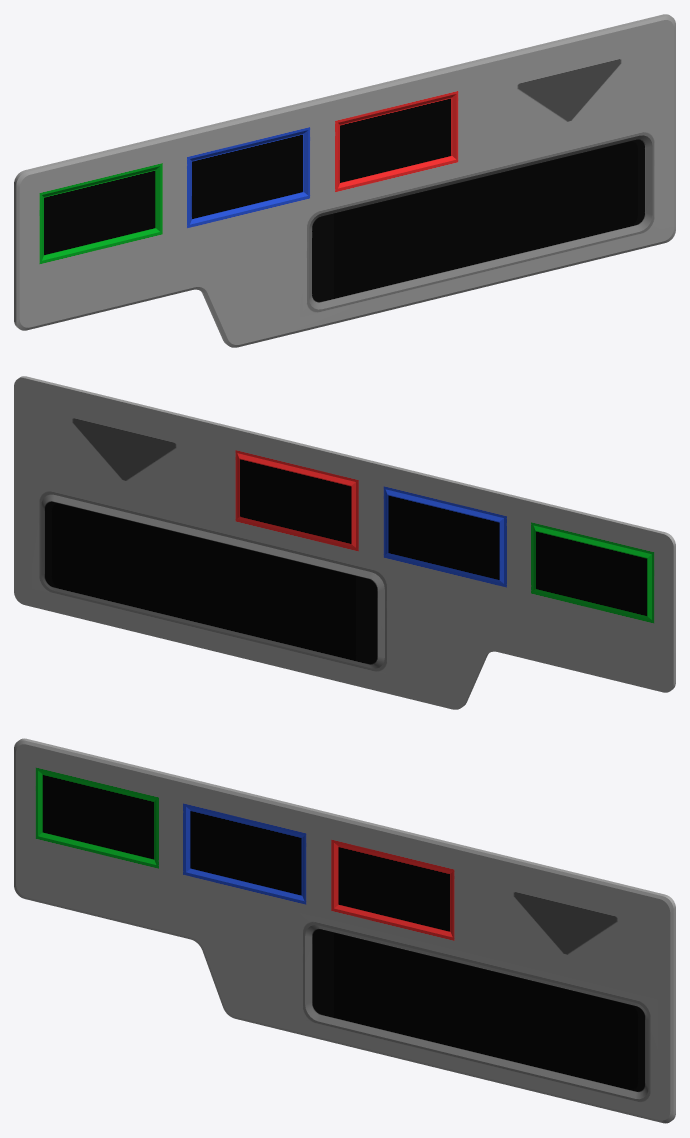
Rendered from mesh_score_frame.fbx.
3 views of the same model, one above another, from view 1: azimuth 30°, elevation 25°; view 2: azimuth 150°, elevation 25°; view 3: azimuth 330°, elevation 25° (orthographic).
Visible parts, largest first — view 1: mesh_score_frame; view 2: mesh_score_frame; view 3: mesh_score_frame.
Part boxes in pixels (x1,y1,x2,y2): mesh_score_frame: (14, 14, 675, 347); mesh_score_frame: (14, 376, 675, 709); mesh_score_frame: (14, 738, 675, 1123).
Bounding box in the file's own units: 649 × 213 × 5.32.
